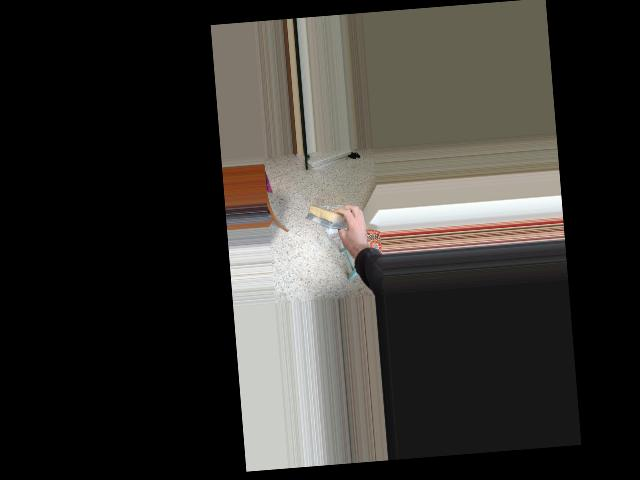cheese: (302, 201, 365, 233)
